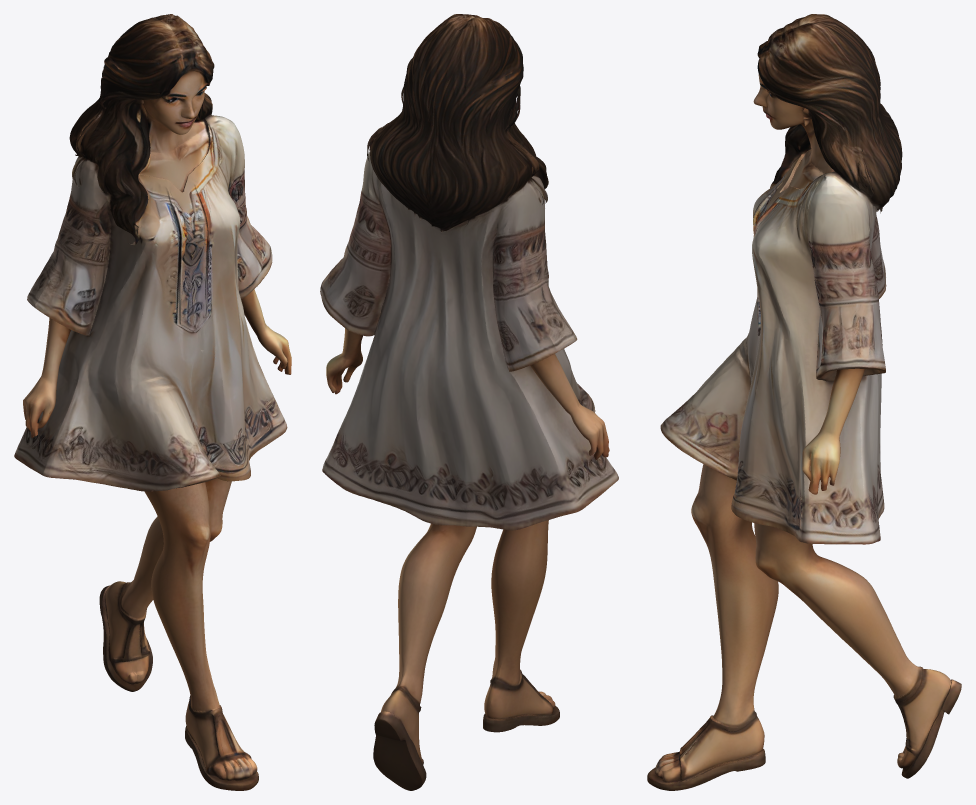
The model's file is natasha.glb.
3 renders of one model, left to right at view 1: azimuth 30°, elevation 25°; view 2: azimuth 150°, elevation 25°; view 3: azimuth 270°, elevation 25°, orthographic. The views are drawn at different scales.
Visible parts, largest first — view 1: Natasha; view 2: Natasha; view 3: Natasha.
Part boxes in pixels (x1,y1,x2,y2): Natasha: (14,14,291,790); Natasha: (320,14,618,790); Natasha: (647,14,961,790).
Size of the model in its own units: 0.6569 by 1.72 by 0.6463.
Materials: 1 (1 with a texture image).
